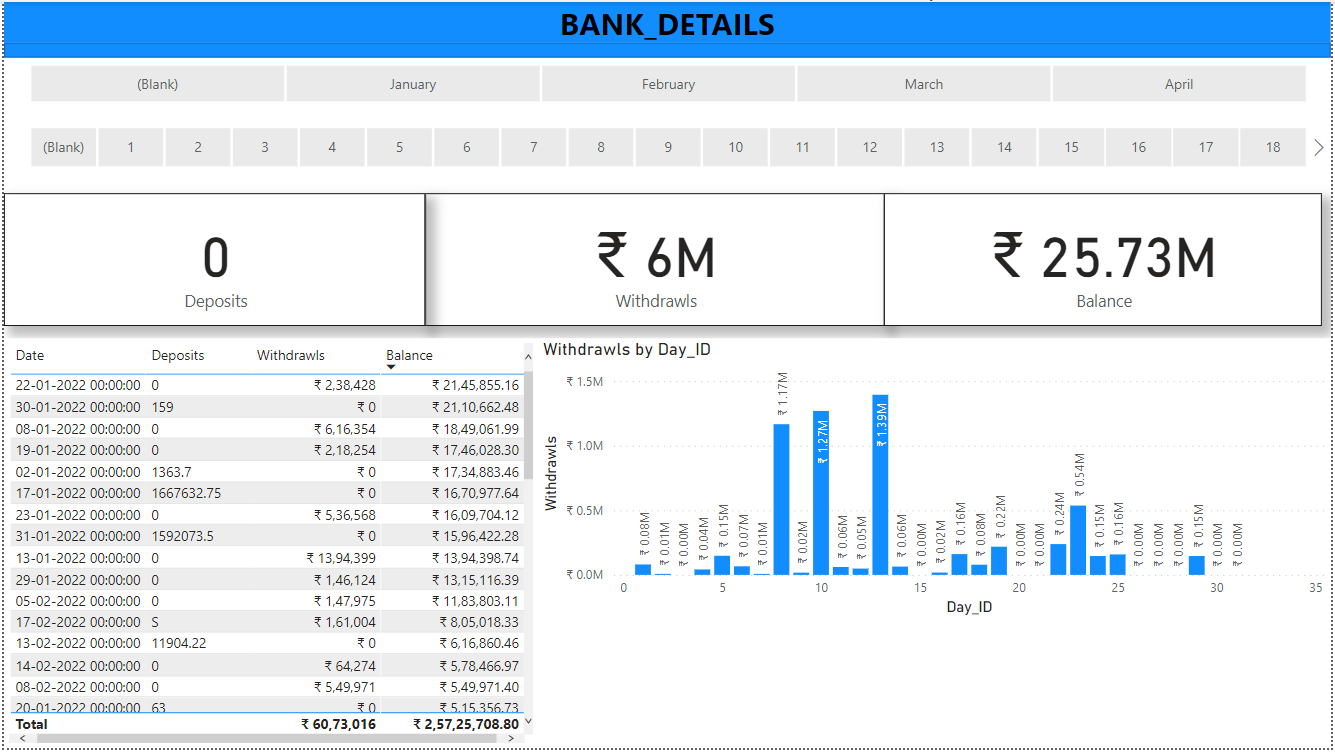

The dashboard page shown, as its layout file describes it:
{"tool":"powerbi","page":{"name":"Page 1","canvas":[1280,720],"ordinal":0},"visuals":[{"type":"shape","title":"BANK_DETAILS","box":[0,0,1280,53.6],"z":0},{"type":"slicer","fields":{"Values":["Date.Day_ID"]},"box":[0,114.4,1280,51.1],"z":1000},{"type":"slicer","fields":{"Values":["Date.Month_Name"]},"box":[0,53.8,1280,48.5],"z":2000},{"type":"card","fields":{"Values":["Sum(Bank.Withdrawls)"]},"box":[406.5,184.4,442.8,127.9],"z":3000},{"type":"card","fields":{"Values":["Min(Bank.Deposits)"]},"box":[0,184.4,406.5,127.9],"z":4000},{"type":"card","fields":{"Values":["Sum(Bank.Balance)"]},"box":[849.3,184.4,422.6,127.9],"z":5000},{"type":"tableEx","fields":{"Values":["Date.Date","Bank.Deposits","Sum(Bank.Withdrawls)","Sum(Bank.Balance)"]},"box":[0,324.4,515.5,395.7],"z":6000},{"type":"clusteredColumnChart","fields":{"Category":["Date.Day_ID"],"Y":["Sum(Bank.Withdrawls)"]},"box":[515.5,324.4,764.5,271.9],"z":7000}]}

Visuals, with their boxes in screenshot pixels (x1, y1, x2, y2), scaled from the page's 1280x720 canvas onto the 1335x752 screenshot:
"BANK_DETAILS" shape: {"left": 0, "top": 0, "right": 1334, "bottom": 56}
slicer - Date.Day_ID: {"left": 0, "top": 119, "right": 1334, "bottom": 173}
slicer - Date.Month_Name: {"left": 0, "top": 56, "right": 1334, "bottom": 107}
card - Sum(Bank.Withdrawls): {"left": 424, "top": 193, "right": 886, "bottom": 326}
card - Min(Bank.Deposits): {"left": 0, "top": 193, "right": 424, "bottom": 326}
card - Sum(Bank.Balance): {"left": 886, "top": 193, "right": 1327, "bottom": 326}
tableEx - Date.Date x Bank.Deposits: {"left": 0, "top": 339, "right": 538, "bottom": 751}
clusteredColumnChart - Date.Day_ID x Sum(Bank.Withdrawls): {"left": 538, "top": 339, "right": 1334, "bottom": 623}
